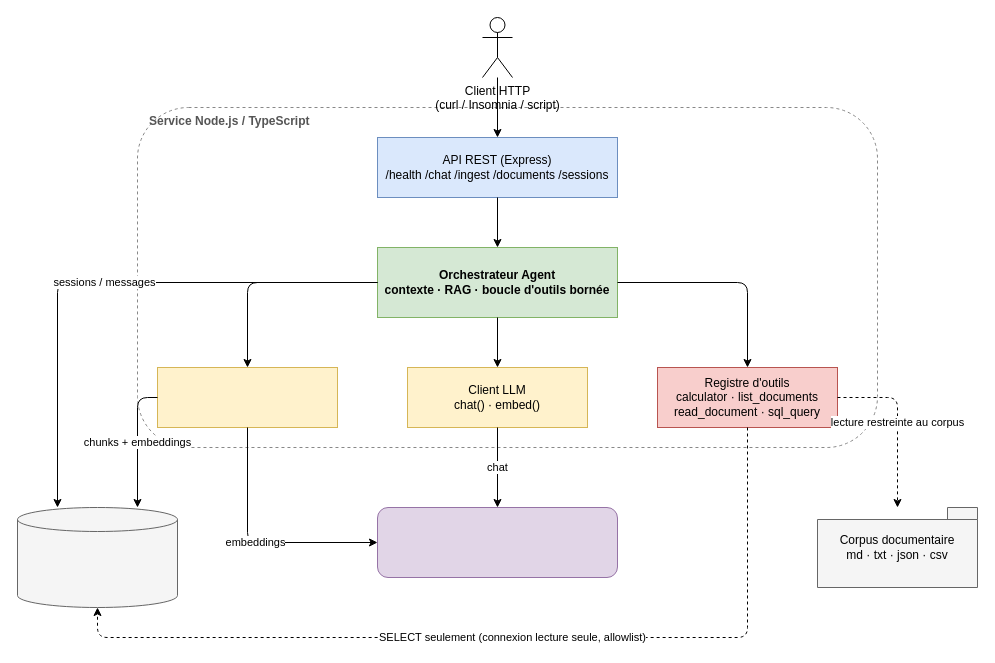
This 995x663 diagram has some shape labels left out. The shapes that lost their labels are listed below. From the top down, each one's centre as x and y in pixels, then its label:
pixel 247 397: RAG chunking · similarité · retriever
pixel 97 557: SQLite sessions · messages documents · chunks · contacts
pixel 497 542: Ollama (serveur unique) modèle de chat + modèle d'embeddings
